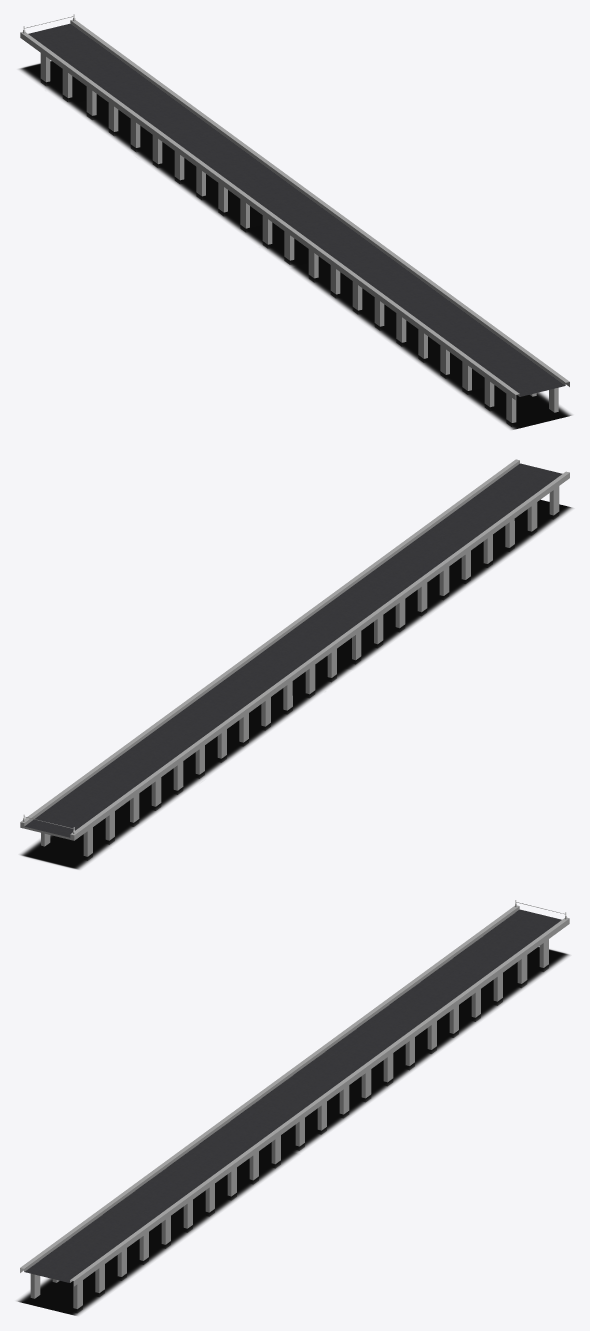
File: rail.glb
3 views of the same model, one above another, from view 1: azimuth 30°, elevation 25°; view 2: azimuth 150°, elevation 25°; view 3: azimuth 330°, elevation 25° (orthographic).
Visible parts, largest first — view 1: rail, rail_shadow; view 2: rail, rail_shadow; view 3: rail, rail_shadow.
Boxes of the visible parts, <box> form: rail: <box>20,14,569,426</box>; rail_shadow: <box>19,61,571,429</box>; rail: <box>20,459,569,860</box>; rail_shadow: <box>20,499,572,869</box>; rail: <box>20,900,569,1312</box>; rail_shadow: <box>17,947,569,1315</box>.
Size of the model in its own units: 2.04 by 1.32 by 26.25.
Materials: 3 (2 with a texture image).
